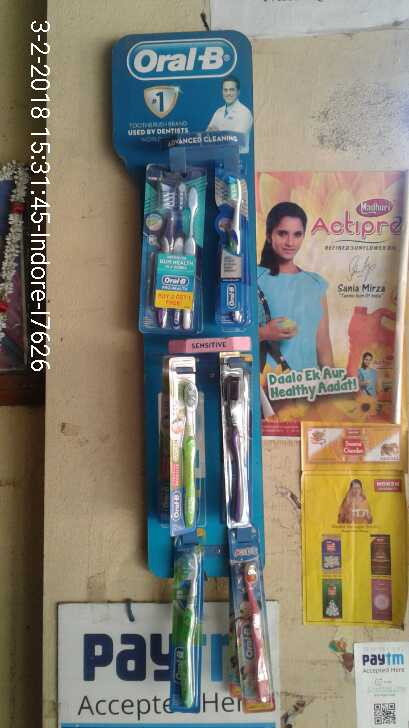oralb: (139, 160, 207, 340), (216, 154, 254, 335), (220, 354, 258, 535), (167, 357, 205, 538), (171, 544, 206, 717), (239, 544, 273, 713)
